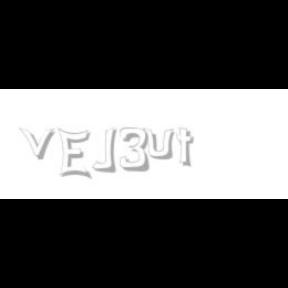3: (120, 128, 150, 172)
E: (57, 128, 90, 180)
J: (92, 128, 116, 172)
t: (176, 128, 198, 168)
u: (144, 128, 178, 160)
v: (19, 128, 59, 160)
